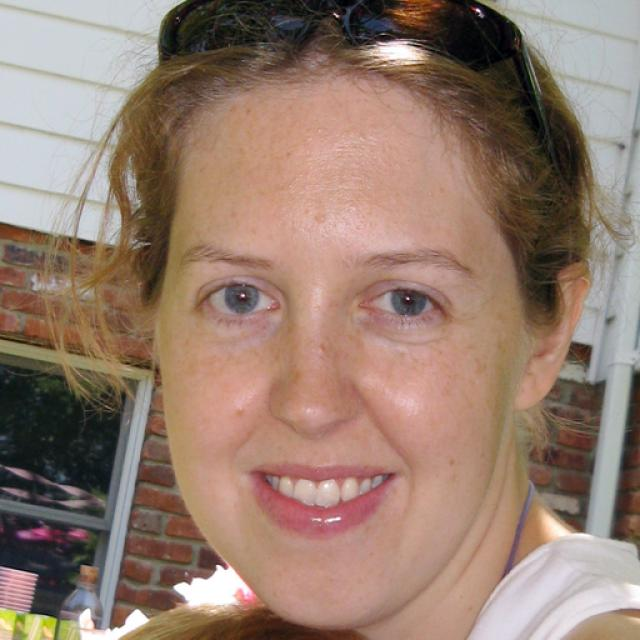Acne: (232, 403, 249, 419), (314, 340, 329, 357), (310, 211, 327, 226)
